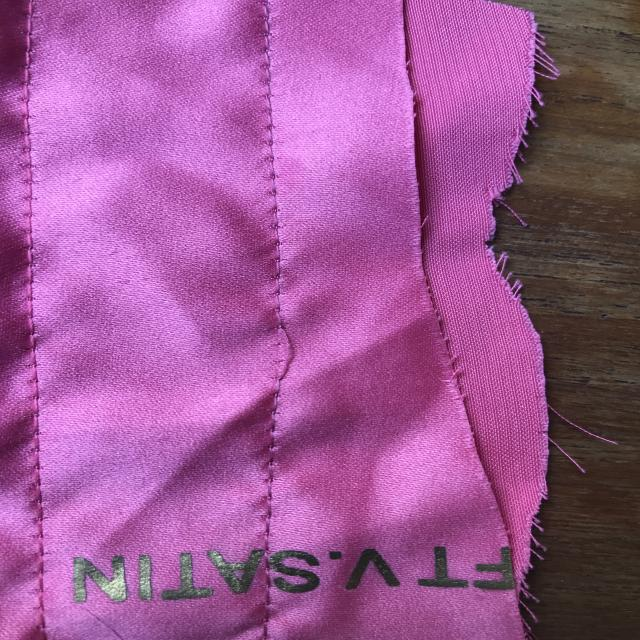skip: (260, 314, 317, 395)
